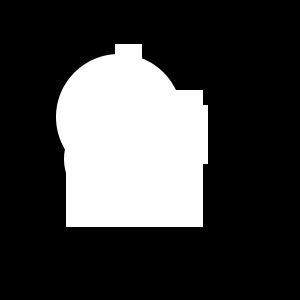circle: (66, 90, 203, 227), (149, 105, 208, 164), (115, 44, 142, 71)
rectangle: (56, 54, 182, 180), (64, 109, 164, 209)
